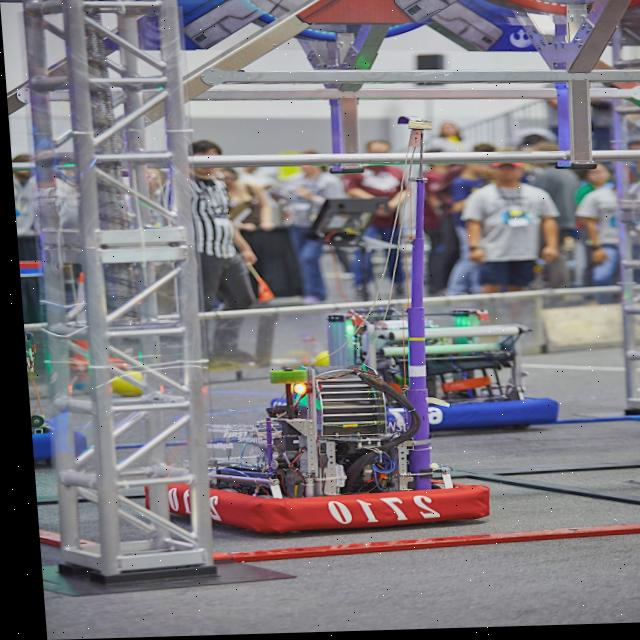robot: (114, 116, 483, 534), (261, 297, 557, 435), (19, 329, 82, 460)
